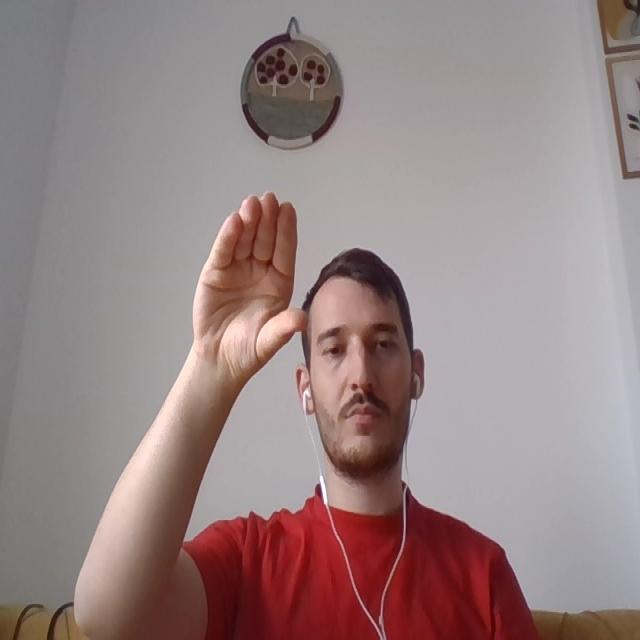no: (194, 196, 297, 374)
